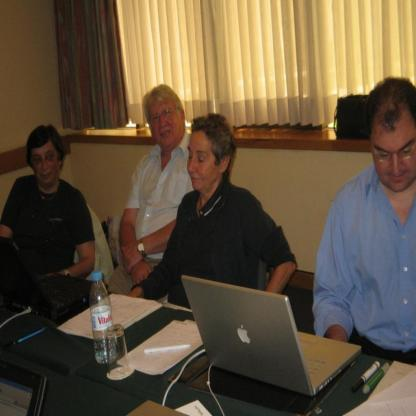board: (180, 280, 355, 398), (0, 238, 108, 322), (89, 272, 119, 366)
